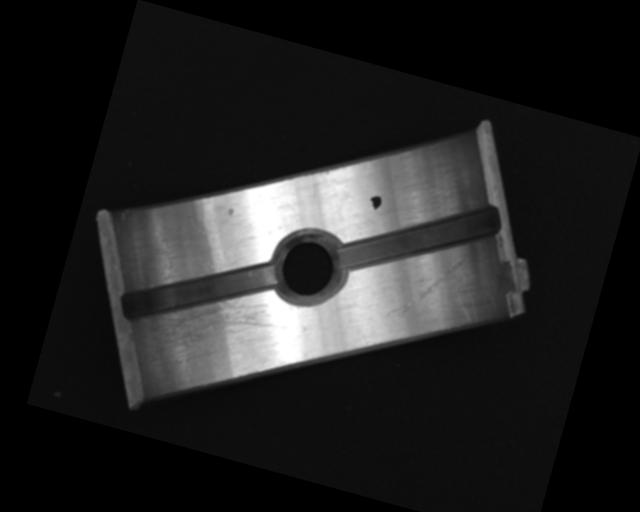blot: (366, 193, 383, 211)
bruise: (226, 206, 234, 217)
gap: (336, 169, 505, 306), (117, 228, 280, 353)
hole: (266, 224, 351, 313)
nick: (384, 241, 467, 333)
scratch: (129, 270, 289, 396)
